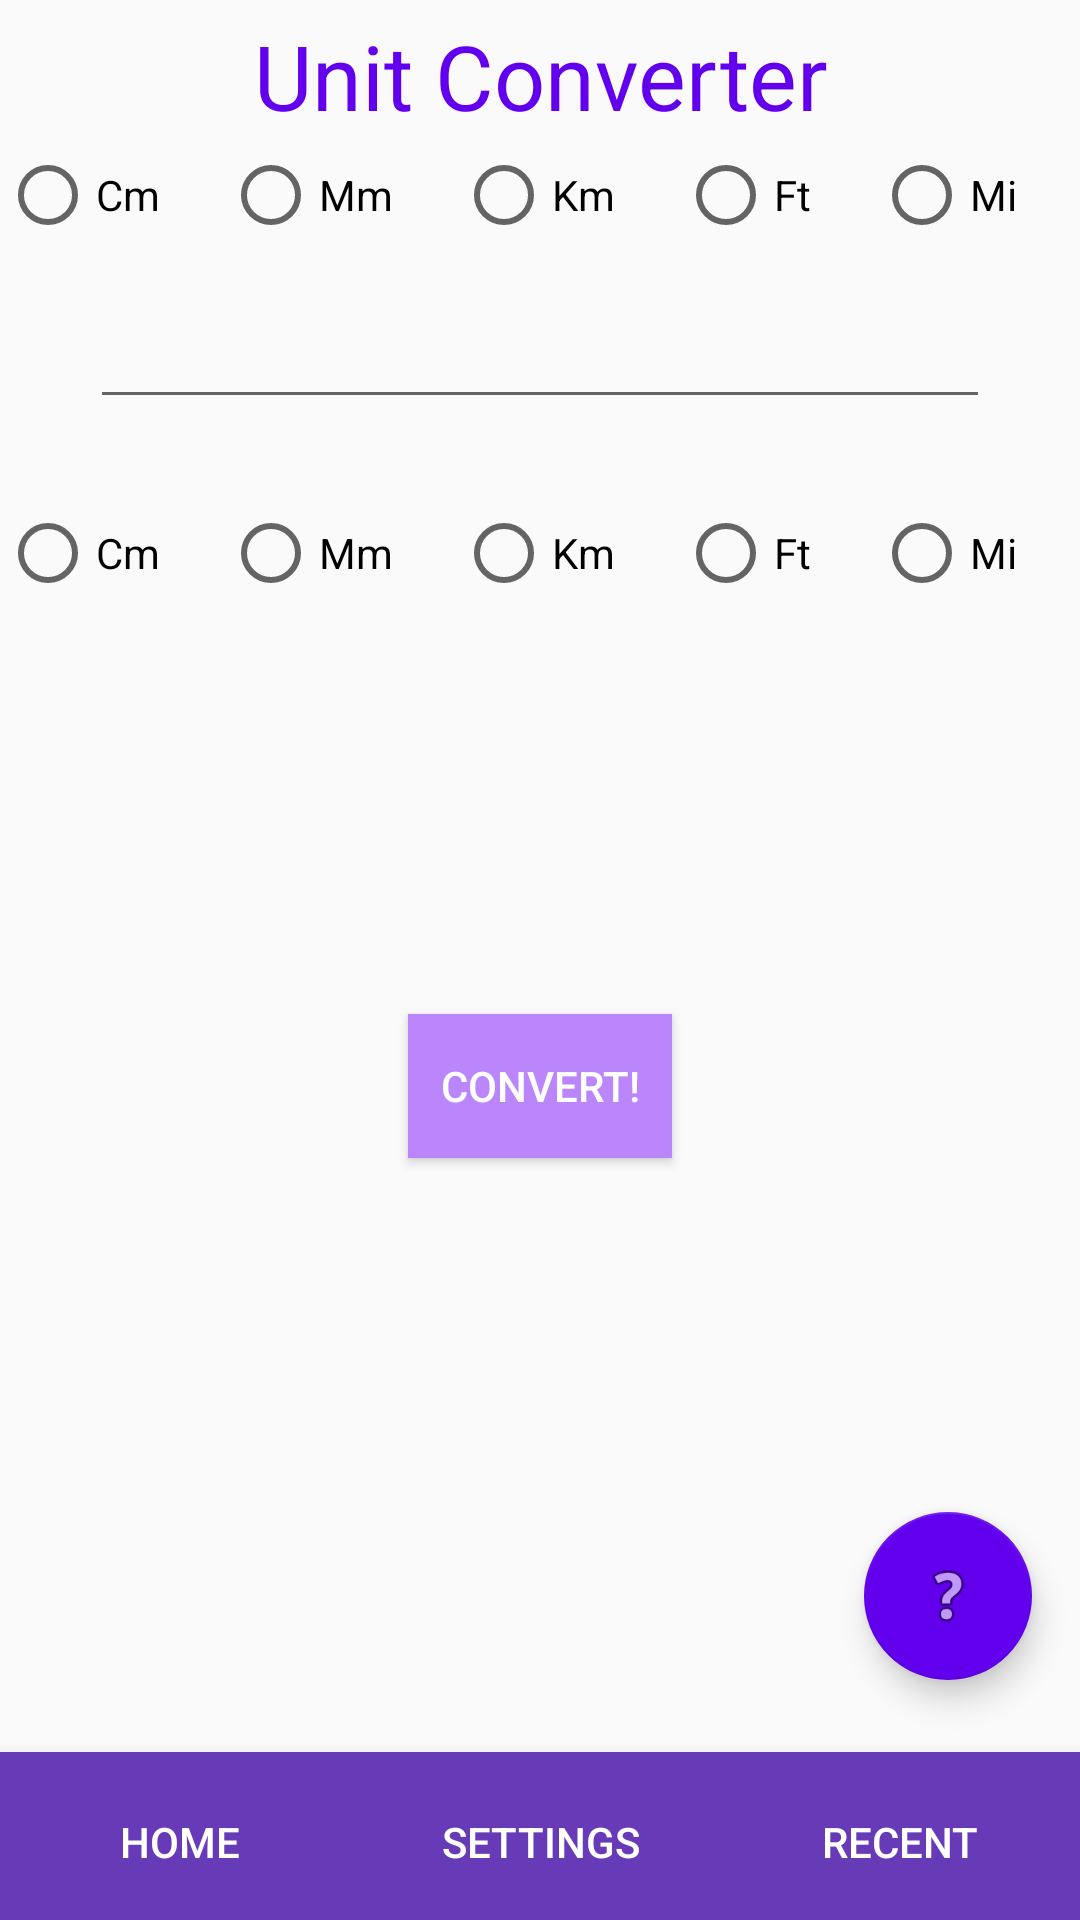

Screen size 1080*1920. Icon name, then its center in pixels as point (x, y):
help: point (948, 1596)
